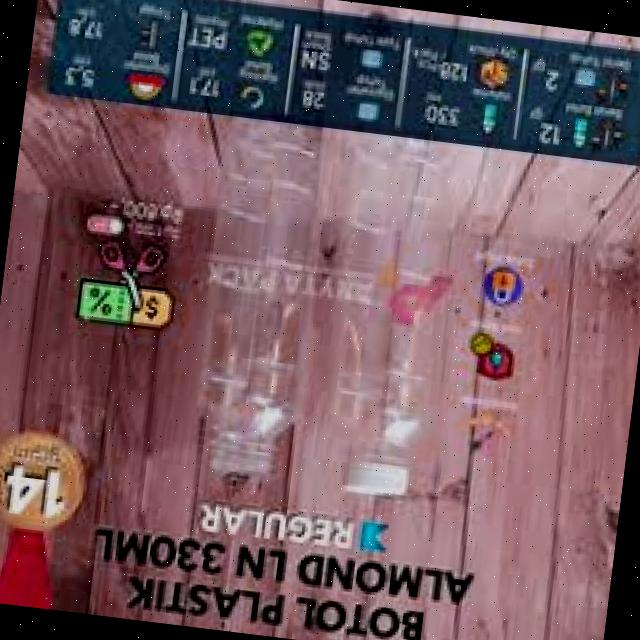bottle: (297, 141, 463, 508), (171, 120, 328, 492)
cap: (337, 454, 412, 504)
